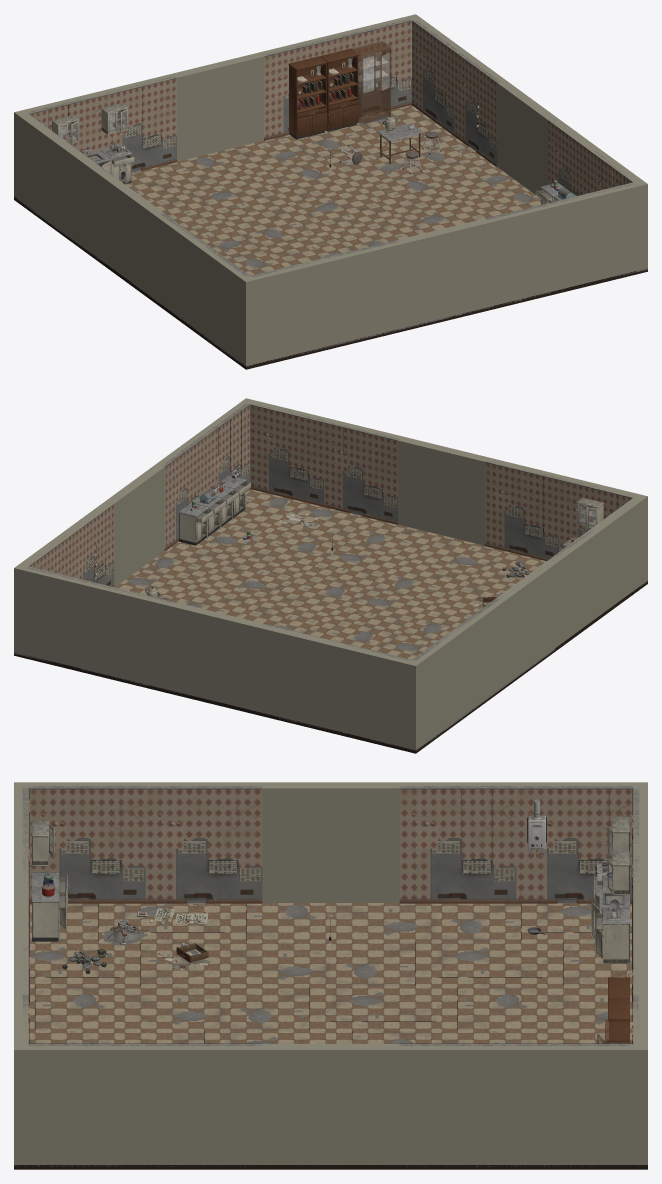
File: room_storage_decorated.glb
3 renders of one model, top to bottom at view 1: azimuth 30°, elevation 25°; view 2: azimuth 150°, elevation 25°; view 3: azimuth 270°, elevation 25°, orthographic. The views are drawn at different scales.
Parts seen in each view (by area): view 1: Wall_S_A, Wall_S_B, Wall_W_B, Wall_W_A, Plug_S, Plug_N, NoCol_Wallpaper_N3, NoCol_Wallpaper_N1, Plug_W, NoCol_Wallpaper_E2, NoCol_Wallpaper_E3, Plug_E (+40 smaller); view 2: Wall_N_A, Wall_N_B, Wall_W_A, Wall_W_B, Plug_N, Plug_S, NoCol_Wallpaper_S2, NoCol_Wallpaper_S3, NoCol_Wallpaper_S1, Plug_W, Plug_E, NoCol_Wallpaper_E1 (+37 smaller); view 3: Wall_E_B, Wall_E_A, Plug_E, Plug_W, NoCol_Wallpaper_W1, NoCol_Wallpaper_W2, NoCol_Wallpaper_W0, NoCol_Wallpaper_W3, NoCol_FloorTile_14, NoCol_FloorTile_13, NoCol_FloorTile_12, NoCol_FloorTile_21 (+45 smaller).
Part boxes in pixels (box(x1,y1,x2,y2)): Wall_S_A: box(240, 240, 403, 365); Wall_S_B: box(487, 180, 647, 306); Wall_W_B: box(19, 114, 113, 262); Wall_W_A: box(155, 214, 245, 361); Plug_S: box(403, 233, 490, 327); Plug_N: box(177, 67, 263, 161); NoCol_Wallpaper_N3: box(336, 19, 411, 115); NoCol_Wallpaper_N1: box(101, 76, 176, 172); Plug_W: box(105, 189, 155, 299); NoCol_Wallpaper_E2: box(454, 51, 500, 163); NoCol_Wallpaper_E3: box(411, 19, 458, 132); Plug_E: box(497, 93, 547, 194); Wall_N_A: box(258, 624, 421, 749); Wall_N_B: box(14, 564, 175, 690); Wall_W_A: box(548, 498, 642, 646); Wall_W_B: box(413, 598, 506, 745); Plug_N: box(171, 617, 258, 711); Plug_S: box(398, 451, 484, 545); NoCol_Wallpaper_S2: box(324, 421, 399, 521); NoCol_Wallpaper_S3: box(250, 403, 325, 503); NoCol_Wallpaper_S1: box(485, 460, 560, 558); Plug_W: box(506, 573, 556, 683); Plug_E: box(114, 477, 164, 586); NoCol_Wallpaper_E1: box(162, 435, 207, 547); Wall_E_B: box(399, 1044, 633, 1164); Wall_E_A: box(28, 1044, 262, 1164); Plug_E: box(262, 1064, 399, 1164); Plug_W: box(262, 802, 399, 902); NoCol_Wallpaper_W1: box(145, 786, 262, 903); NoCol_Wallpaper_W2: box(399, 786, 516, 899); NoCol_Wallpaper_W0: box(28, 786, 145, 899); NoCol_Wallpaper_W3: box(516, 786, 633, 903); NoCol_FloorTile_14: box(436, 941, 542, 986); NoCol_FloorTile_13: box(331, 941, 436, 986); NoCol_FloorTile_12: box(225, 941, 330, 986); NoCol_FloorTile_21: box(119, 986, 225, 1030).
Bounding box in the file's own units: 12 × 2.5 × 12.
Materials: 42 (30 with a texture image).
